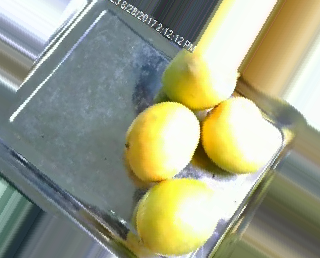Mango: (118, 179, 223, 252), (123, 100, 205, 181), (197, 96, 273, 172), (160, 40, 243, 109)
